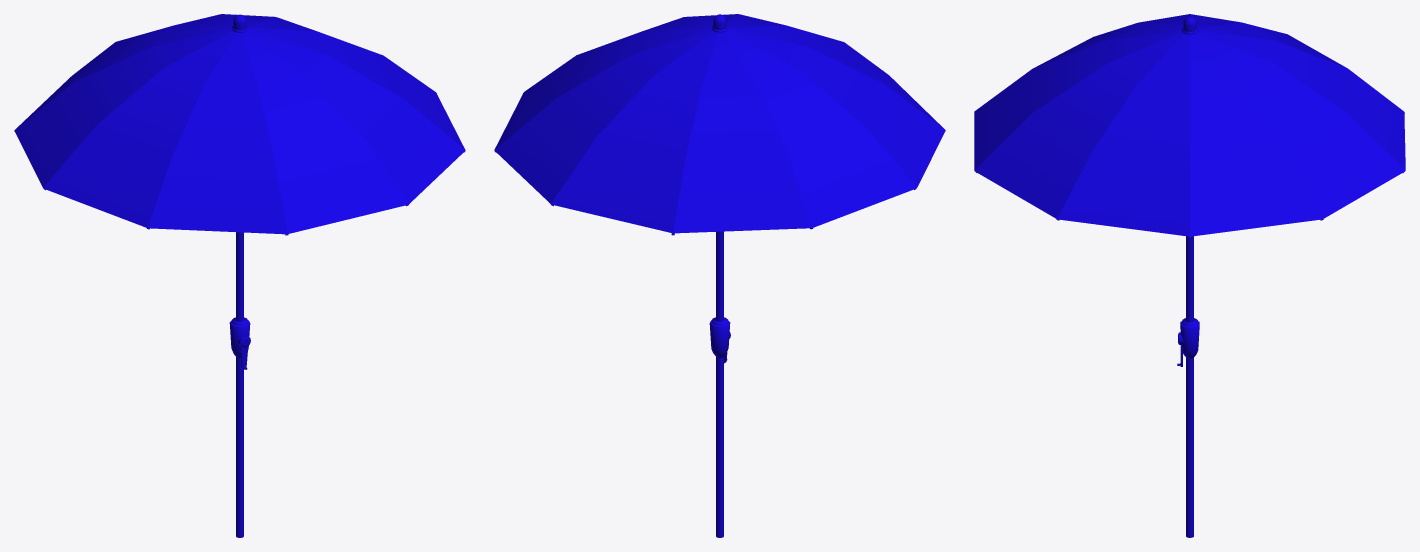
The model's file is SM_town_parasol.fbx.
3 renders of one model, left to right at view 1: azimuth 30°, elevation 25°; view 2: azimuth 150°, elevation 25°; view 3: azimuth 270°, elevation 25°, orthographic.
Parts seen in each view (by area): view 1: market_parasol; view 2: market_parasol; view 3: market_parasol.
Part boxes in pixels (x1=…): market_parasol: x1=14, y1=14, x2=465, y2=537; market_parasol: x1=494, y1=14, x2=945, y2=537; market_parasol: x1=974, y1=14, x2=1405, y2=537.
Bounding box in the file's own units: 220 × 279 × 210.
